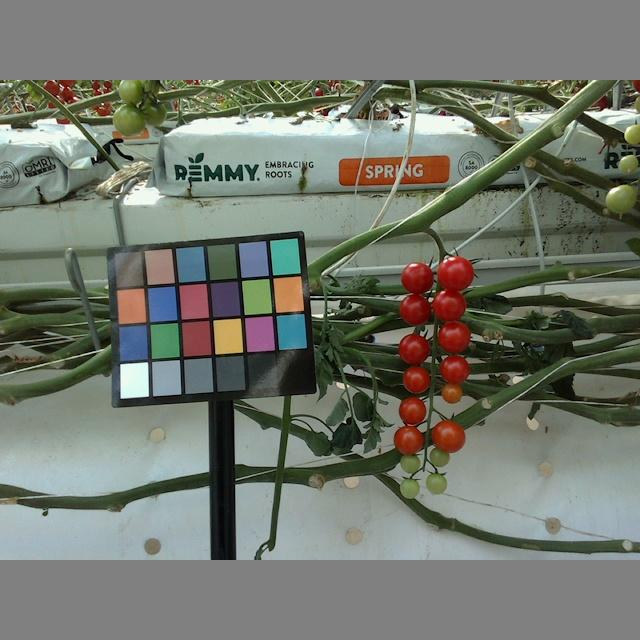green: (112, 104, 146, 135), (606, 185, 637, 216), (142, 98, 168, 125), (117, 81, 143, 102), (426, 471, 448, 495), (425, 446, 451, 466), (399, 475, 419, 501), (397, 452, 419, 474), (618, 153, 639, 175)
pink: (439, 383, 463, 403)
red: (435, 255, 476, 292), (396, 291, 431, 326), (430, 419, 464, 454), (400, 261, 435, 294), (431, 288, 466, 321), (437, 321, 470, 351), (437, 355, 471, 383), (398, 335, 430, 364), (396, 396, 427, 425), (395, 424, 423, 456), (401, 365, 429, 394)
